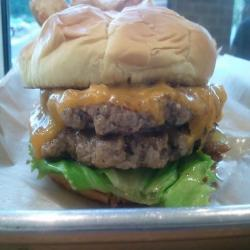burger: (18, 5, 219, 209)
salad: (38, 152, 214, 203)
